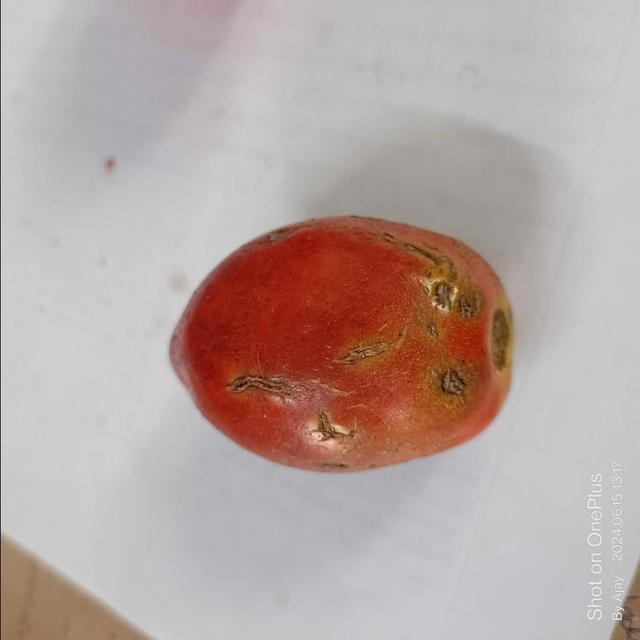Bacterial Spot Fruit: (8, 11, 302, 285)
